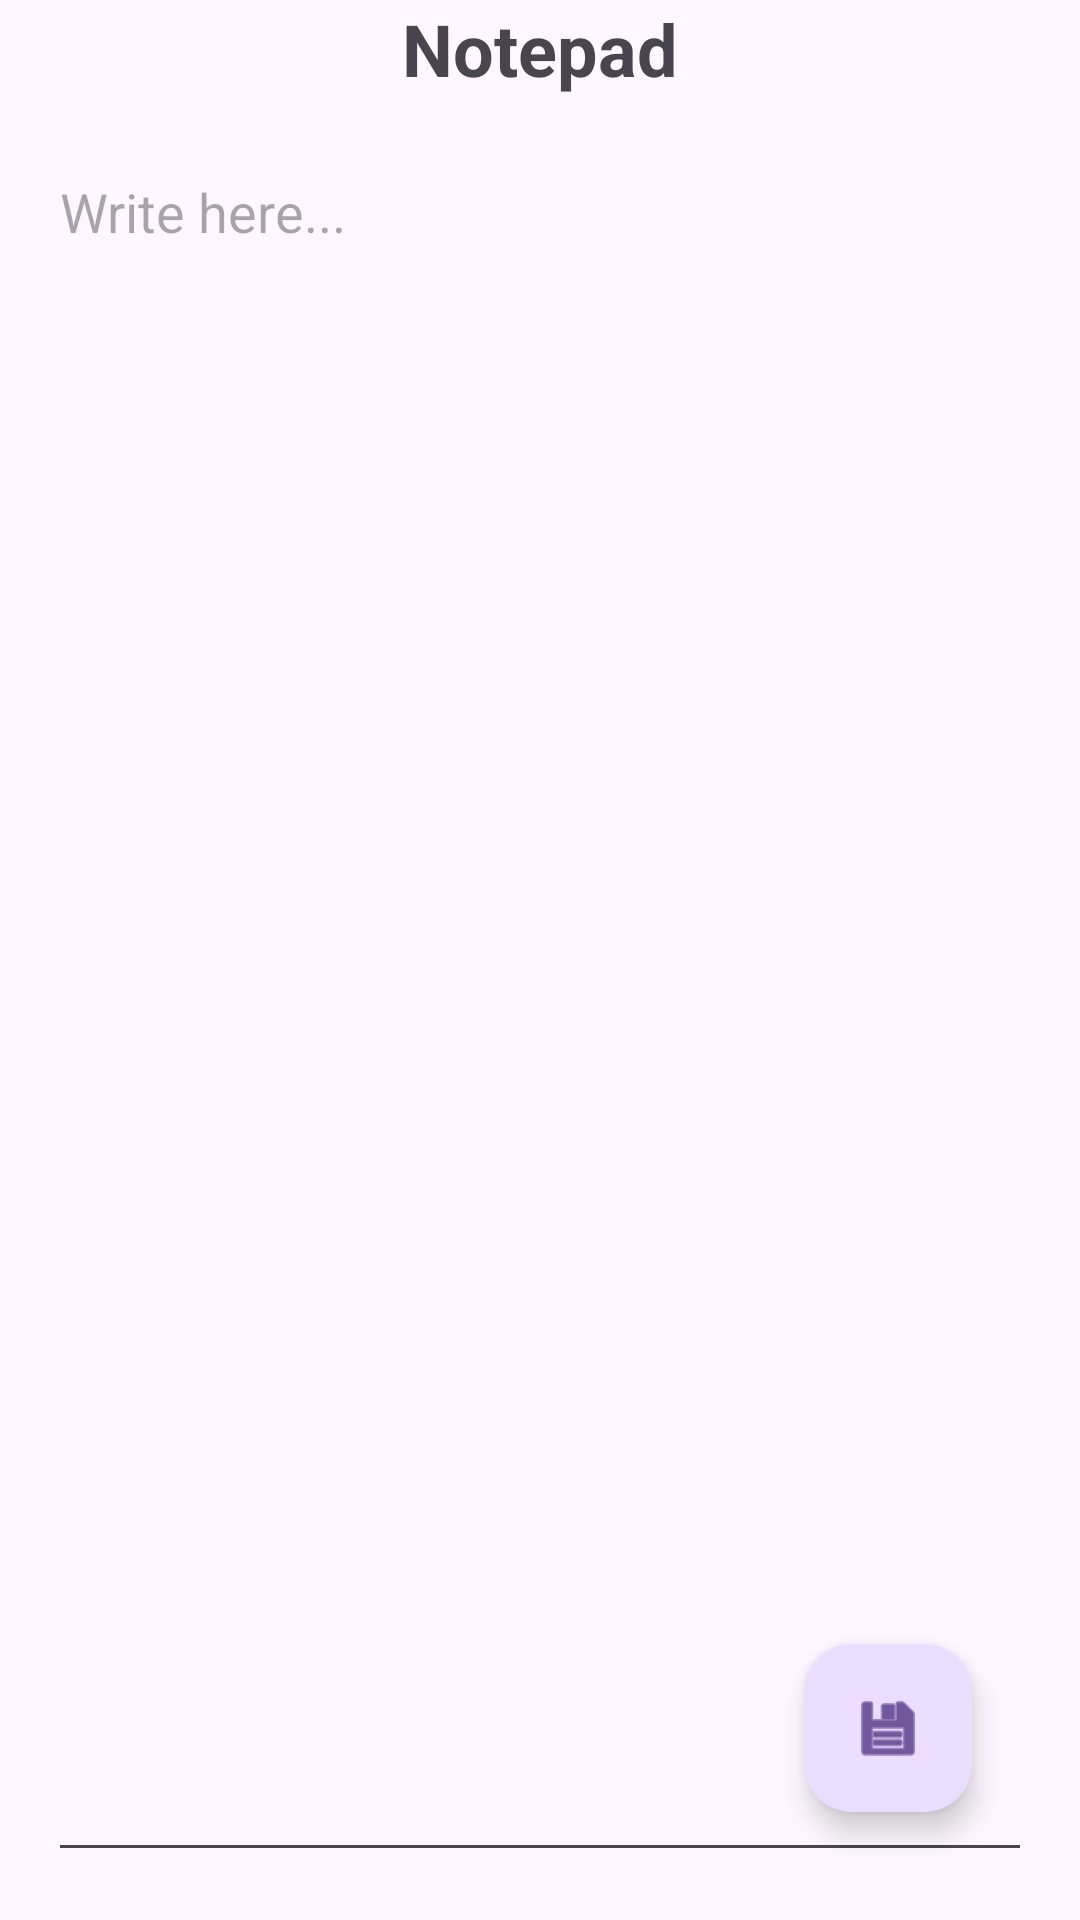

Screen size 1080px×1920px. Icon name, then its box in pixels as {"x1": x1, "y1": y1, "x2": x2, "y2": y2}:
Save: {"x1": 804, "y1": 1644, "x2": 972, "y2": 1812}
